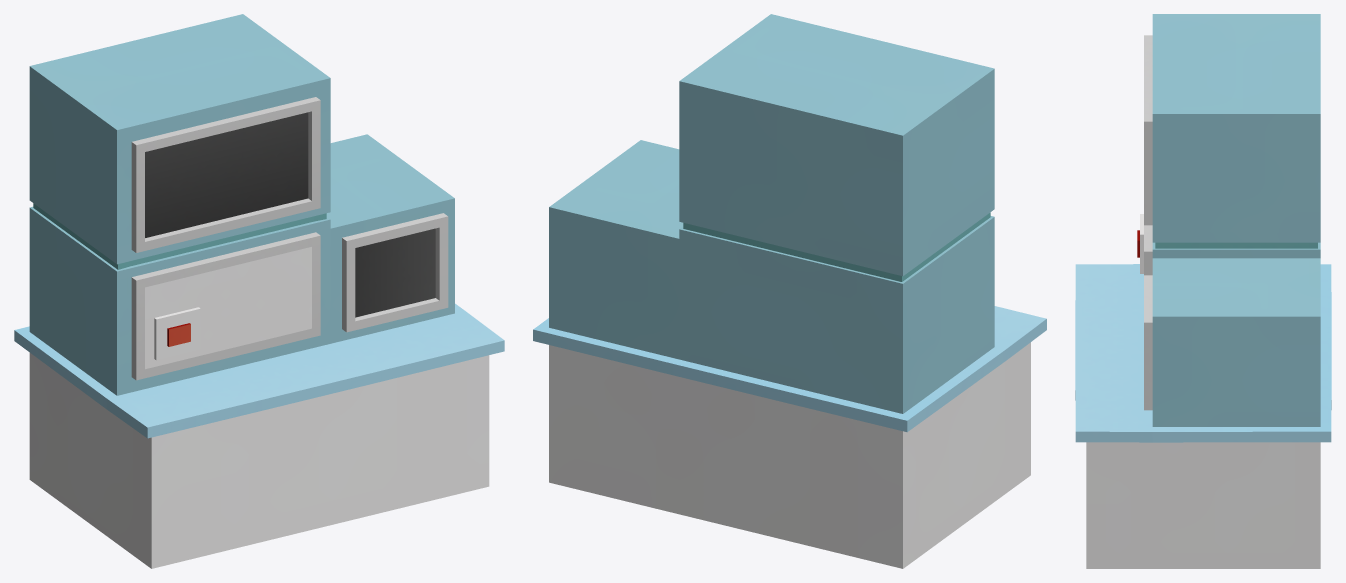
The model's file is machine_1.glb.
3 views of the same model, side by side, from view 1: azimuth 30°, elevation 25°; view 2: azimuth 150°, elevation 25°; view 3: azimuth 270°, elevation 25° (orthographic). The views are drawn at different scales.
Visible parts, largest first — view 1: machine_1; view 2: machine_1; view 3: machine_1.
Boxes of the visible parts, bbox=[...] form: machine_1: bbox=[14, 14, 504, 568]; machine_1: bbox=[533, 14, 1046, 568]; machine_1: bbox=[1075, 14, 1331, 568].
Bounding box in the file's own units: 0.6383 × 0.7031 × 0.4116.
1 material, 1 textured.
